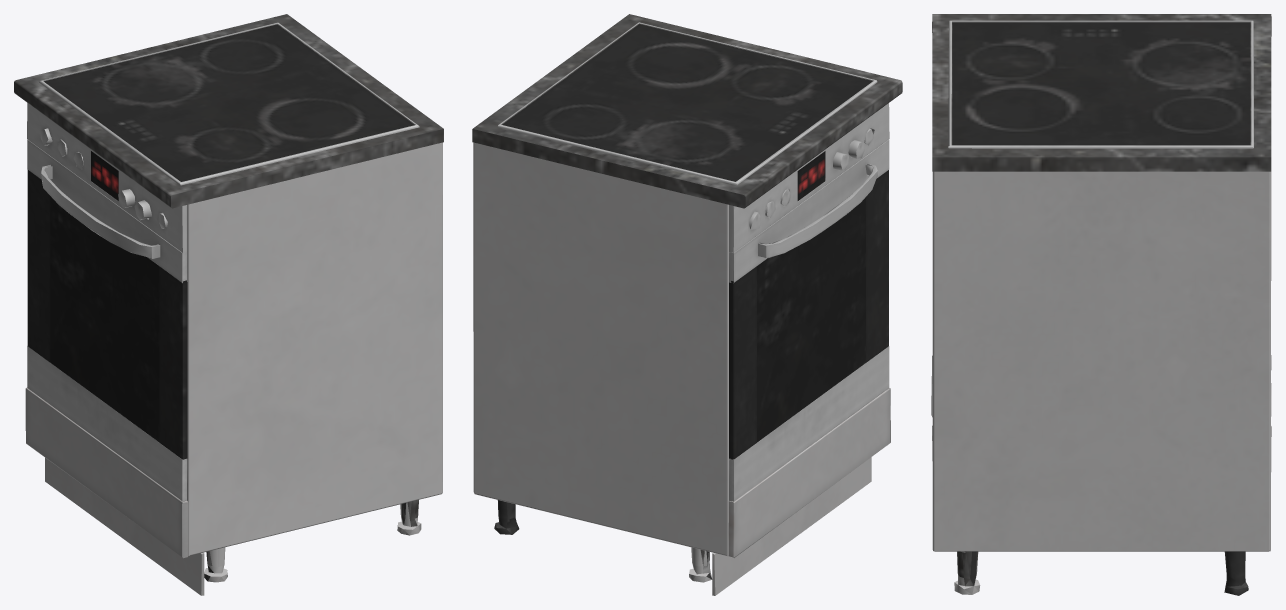
The model's file is SM_Kitchen06.fbx.
3 renders of one model, left to right at view 1: azimuth 30°, elevation 25°; view 2: azimuth 150°, elevation 25°; view 3: azimuth 270°, elevation 25°, orthographic. The views are drawn at different scales.
Visible parts, largest first — view 1: SM_Kitchen06_LOD0; view 2: SM_Kitchen06_LOD0; view 3: SM_Kitchen06_LOD0.
Part boxes in pixels (<box>): SM_Kitchen06_LOD0: <box>14,14,443,595</box>; SM_Kitchen06_LOD0: <box>472,14,902,595</box>; SM_Kitchen06_LOD0: <box>931,14,1271,595</box>.
Bounding box in the file's own units: 62.93 × 60.27 × 86.86.
